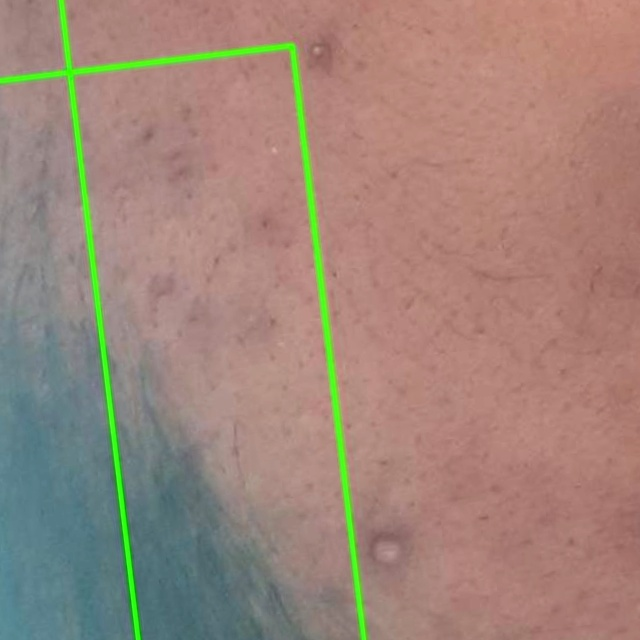Seborrheic Dermatitis: (61, 0, 639, 639), (0, 45, 364, 639)
